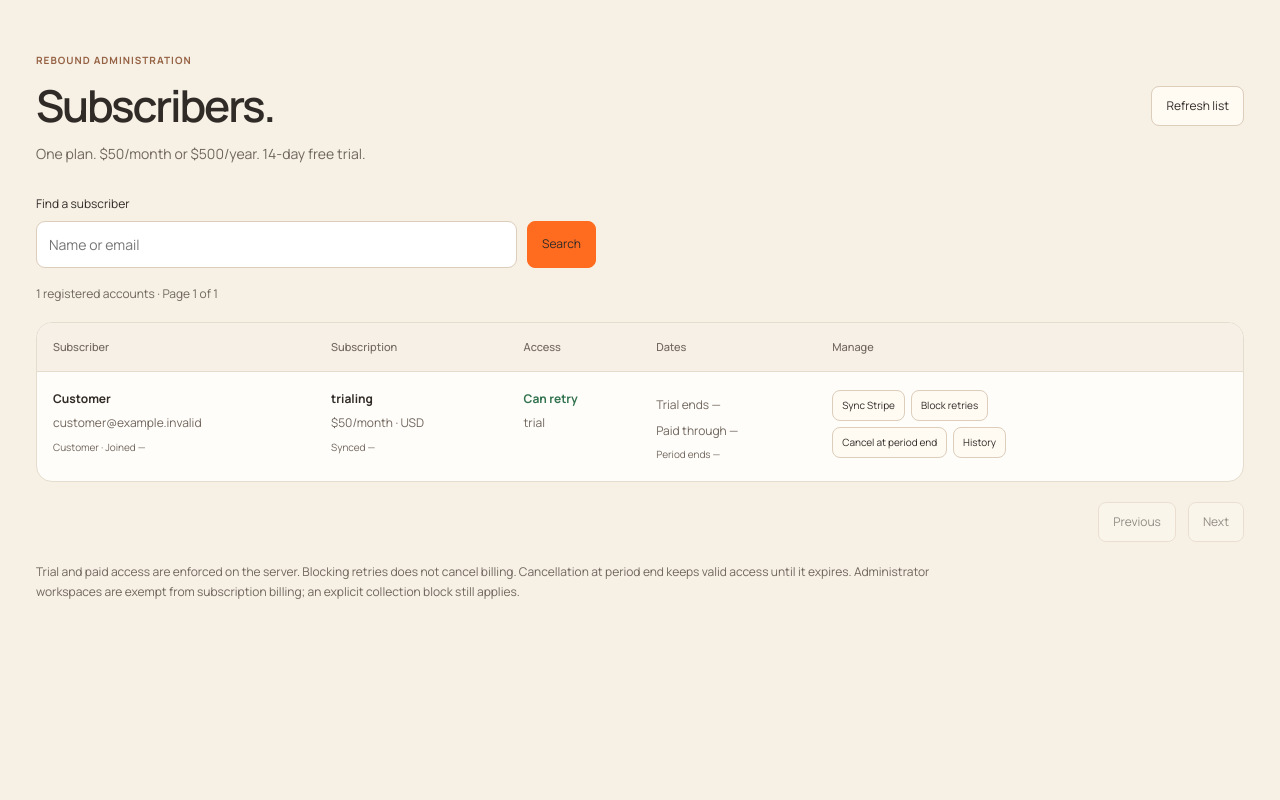
Test: blocking requires a reason before confirmation
The width and height of the screenshot is (1280, 800).
Step 1. Click the button "Block retries" → [950, 406], box [911,390,988,421]
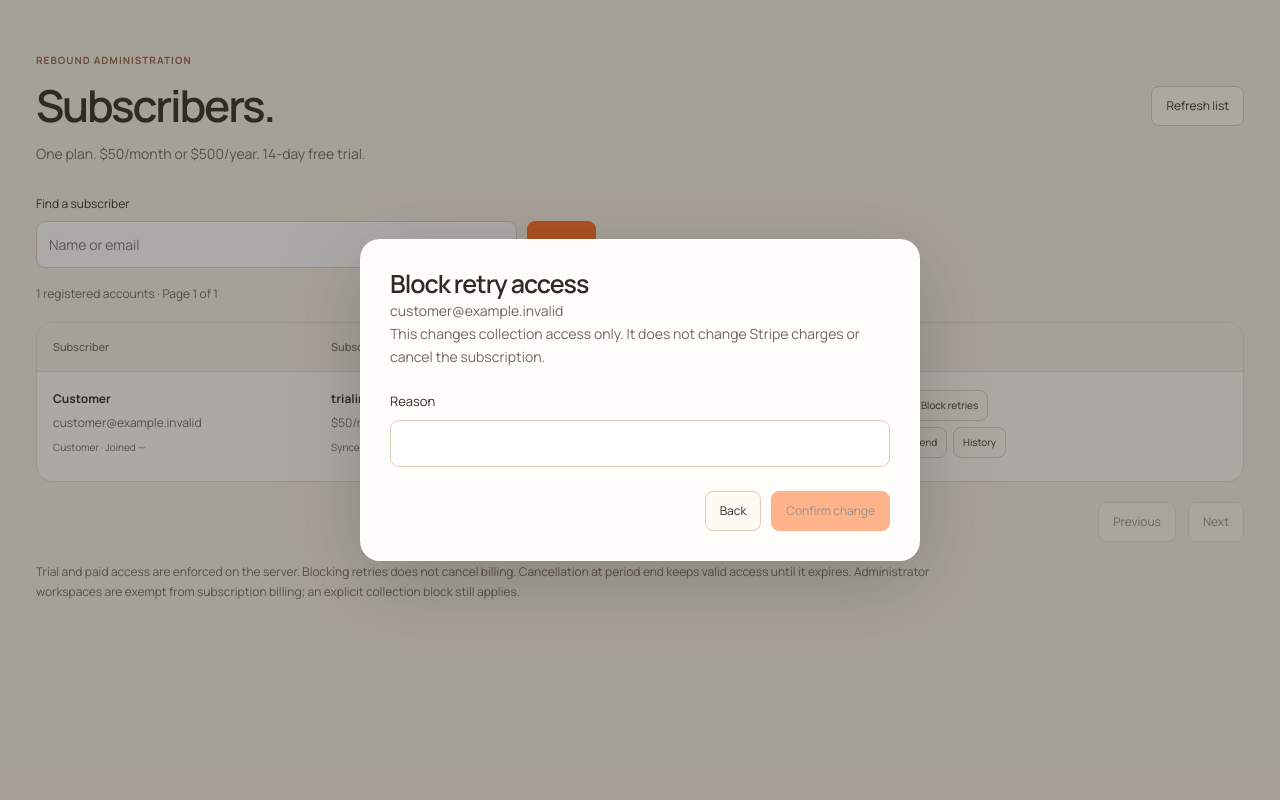
Result: the dialog shows "does not change Stripe charges" at [390,324,860,366]
Result: the button "Confirm change" is disabled at [771,491,890,531]
